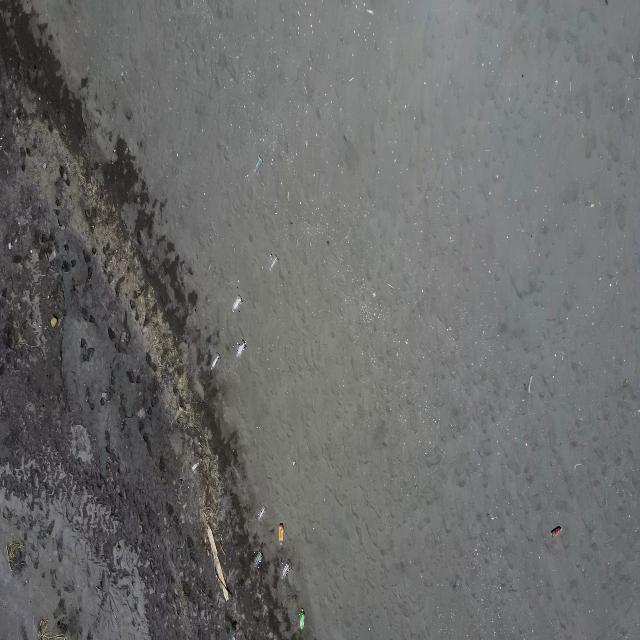plastic-bottle: (278, 524, 284, 546)
takeaway-cup: (233, 294, 243, 312), (237, 340, 246, 357), (281, 562, 290, 579), (211, 352, 220, 369), (253, 551, 262, 568), (270, 253, 278, 271), (258, 506, 266, 522), (299, 608, 305, 629)
